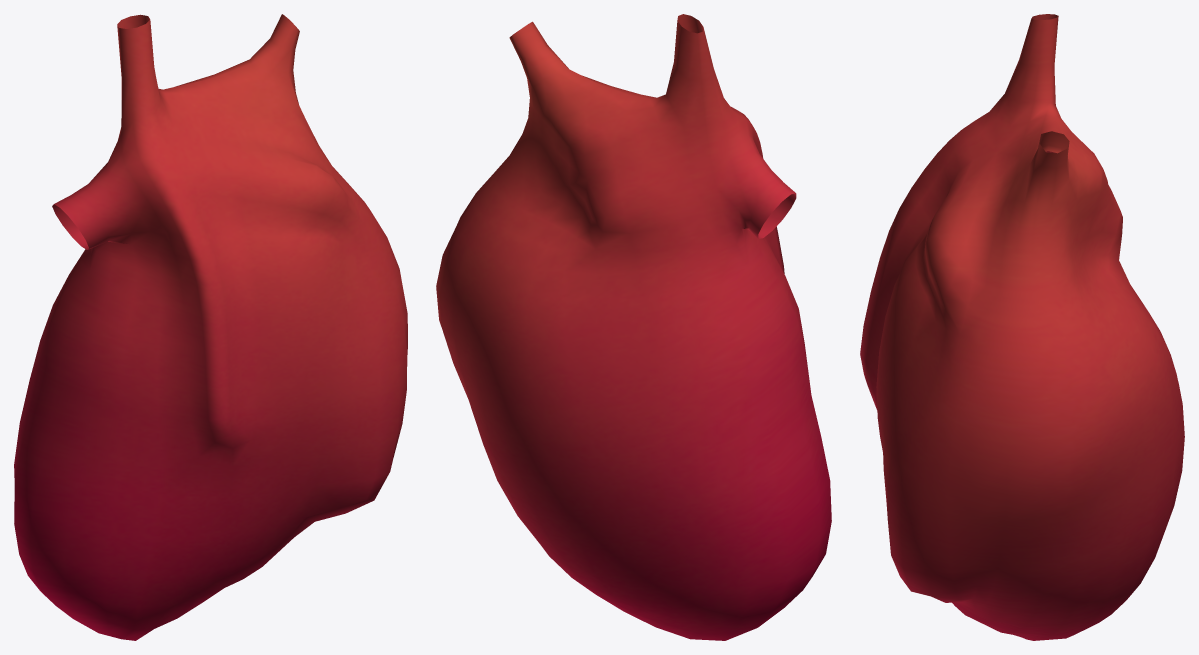
File: Ingredient_FrogHeart.fbx
3 renders of one model, left to right at view 1: azimuth 30°, elevation 25°; view 2: azimuth 150°, elevation 25°; view 3: azimuth 270°, elevation 25°, orthographic. The views are drawn at different scales.
Visible parts, largest first — view 1: Incredient_FrogHeart; view 2: Incredient_FrogHeart; view 3: Incredient_FrogHeart.
Part boxes in pixels (bbox=[...]): Incredient_FrogHeart: bbox=[14, 14, 407, 640]; Incredient_FrogHeart: bbox=[436, 14, 831, 640]; Incredient_FrogHeart: bbox=[860, 14, 1184, 640].
Bounding box in the file's own units: 65.97 × 106 × 50.04.
1 material, 1 textured.
